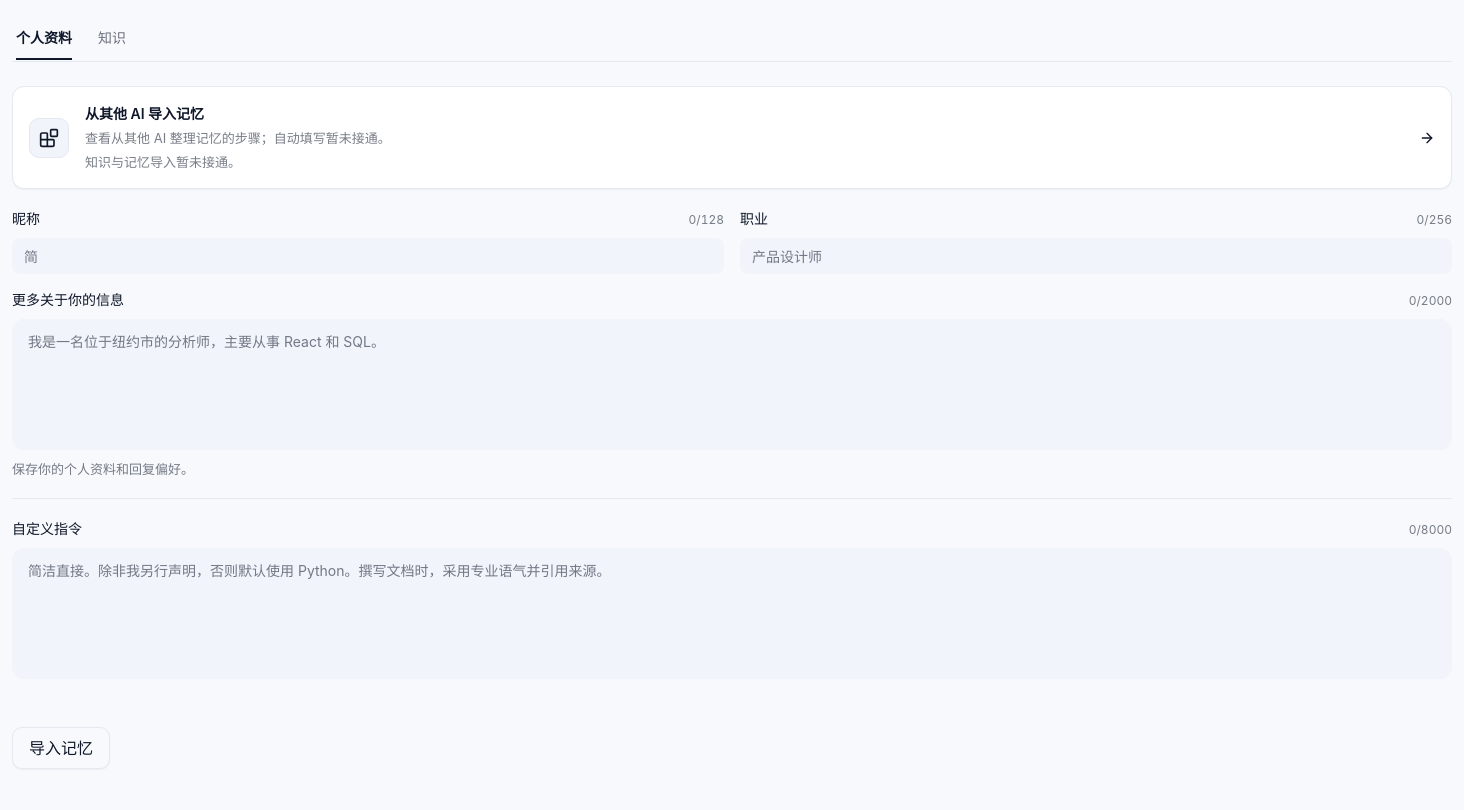
Test: knowledge settings journey › keeps the existing profile mounted while keyboard tabs open knowledge lazily
This screenshot has width=1464, height=810.
Step 1. Type "local draft" into the field labelled "昵称" → {"x": 368, "y": 256}, box [12, 238, 724, 274]
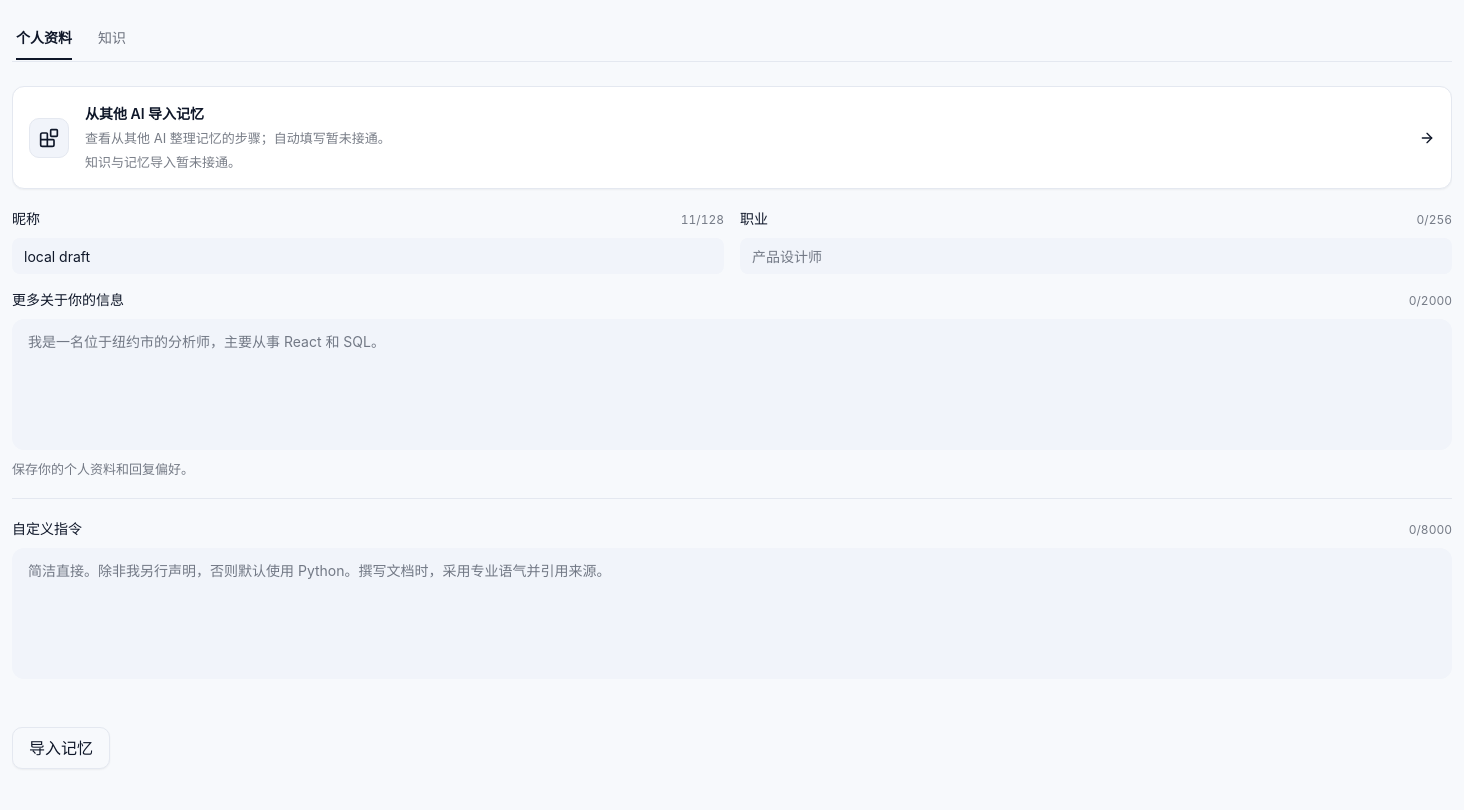
Step 2. Press ArrowRight in the tab "个人资料", box [15, 19, 73, 55]
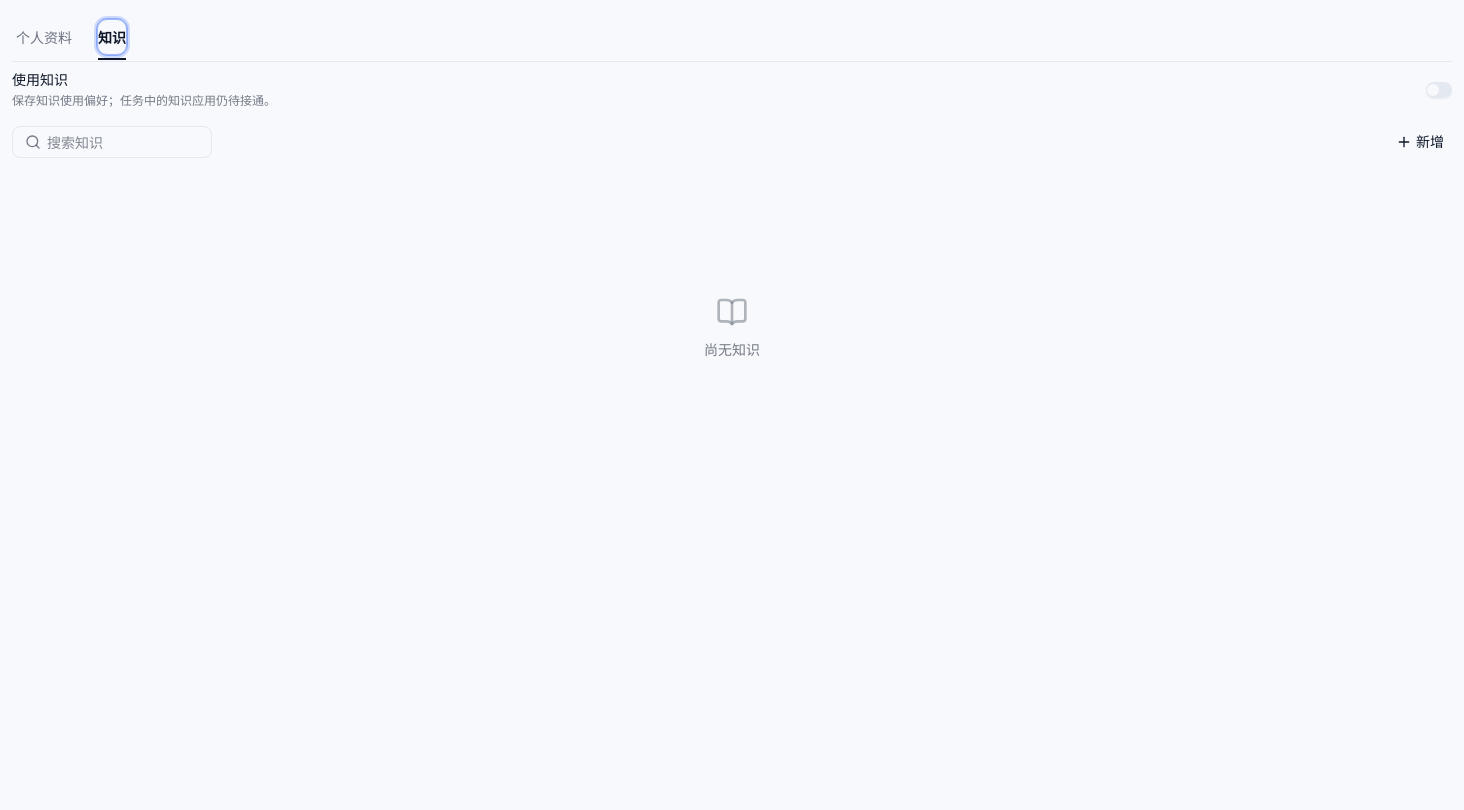
Expected: the text "尚无知识" is shown, [704, 340, 760, 360]
Step 3. Press ArrowLeft in the tab "知识", box [97, 19, 127, 55]
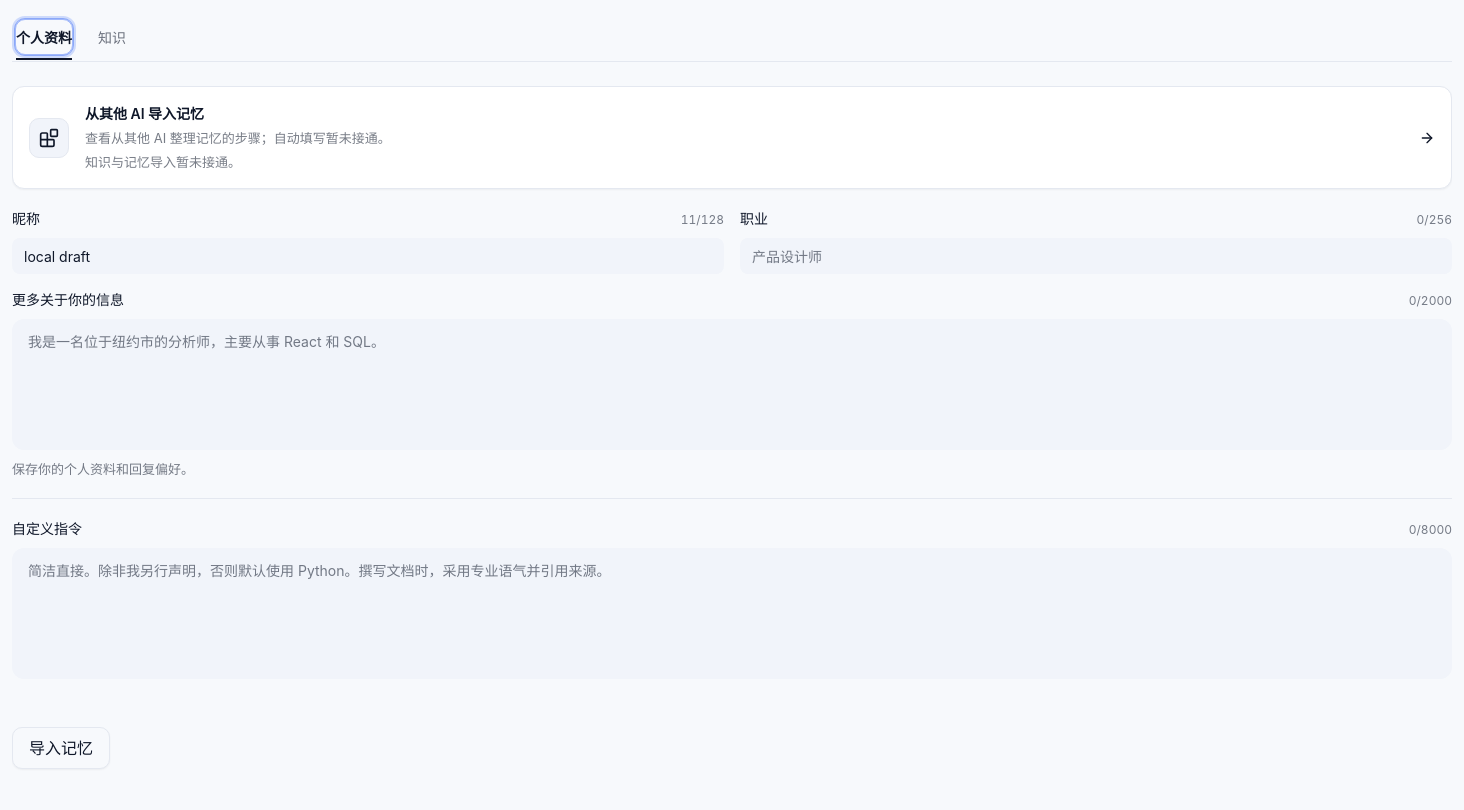
Expected: the field labelled "昵称" holds "local draft", [12, 238, 724, 274]
